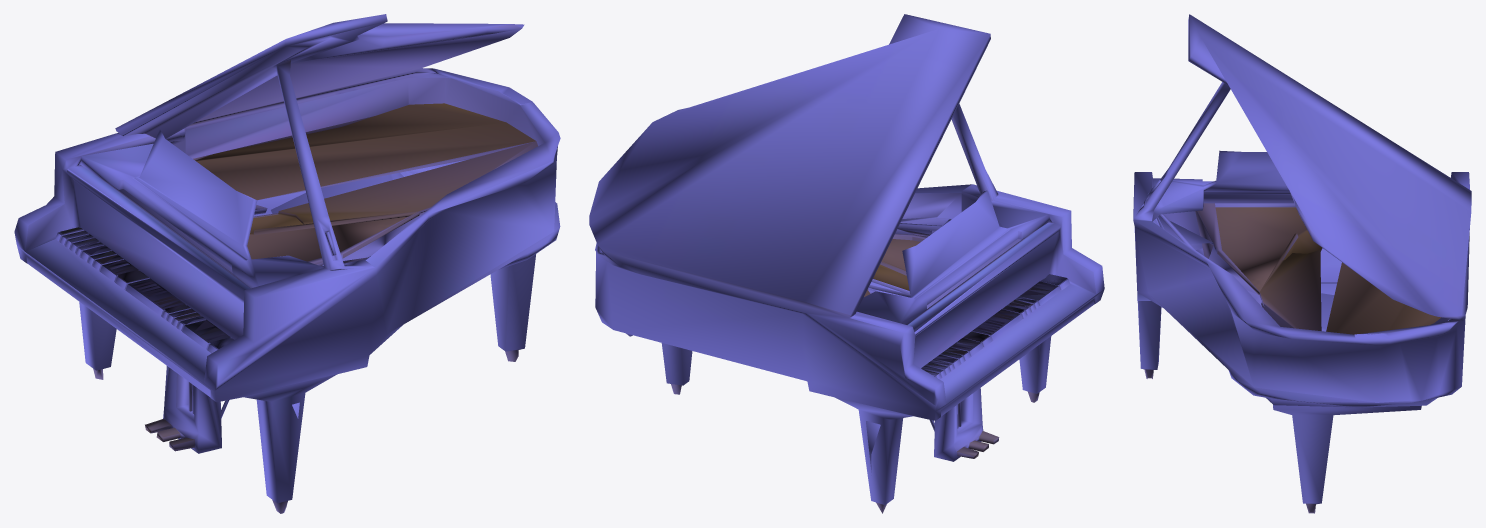
Rendered from model.progressive.glb.
3 views of the same model, side by side, from view 1: azimuth 30°, elevation 25°; view 2: azimuth 150°, elevation 25°; view 3: azimuth 270°, elevation 25° (orthographic). The views are drawn at different scales.
Parts seen in each view (by area): view 1: material; view 2: material; view 3: material.
Part boxes in pixels (x1,y1,x2,y2): material: (14,14,560,513); material: (589,14,1104,513); material: (1133,14,1471,513).
Bounding box in the file's own units: 1.9 × 1.8 × 1.47.
Materials: 1 (1 with a texture image).
